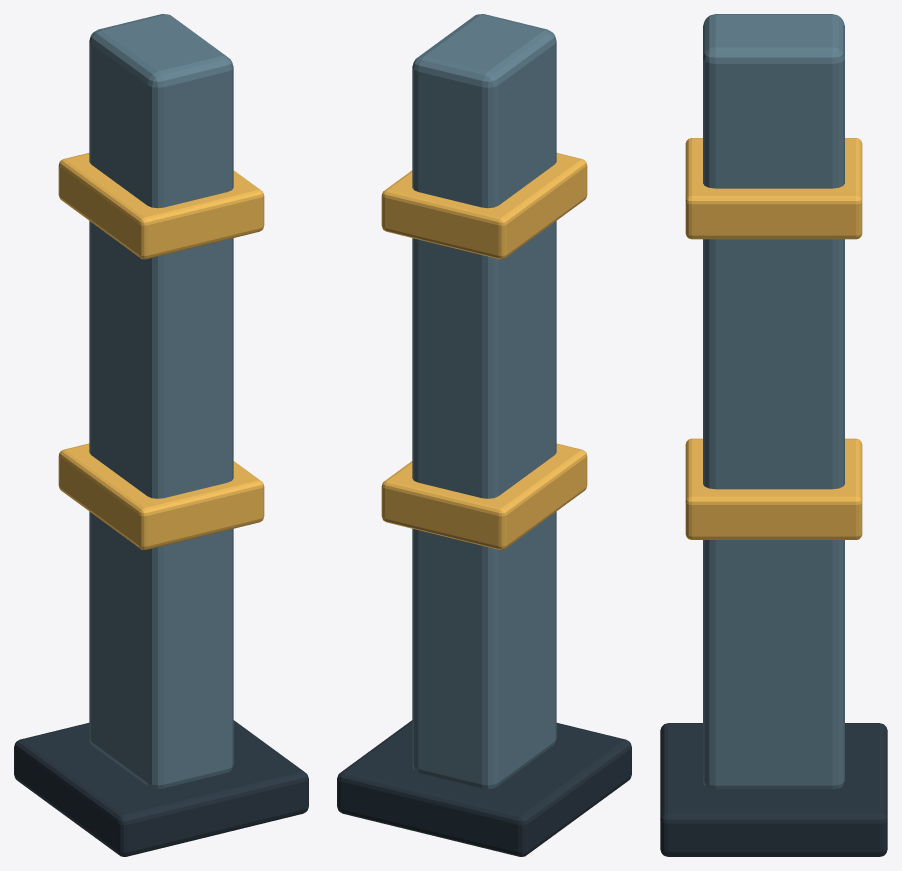
The model's file is SM_LongColumn.fbx.
3 views of the same model, side by side, from view 1: azimuth 30°, elevation 25°; view 2: azimuth 150°, elevation 25°; view 3: azimuth 270°, elevation 25° (orthographic). The views are drawn at different scales.
Visible parts, largest first — view 1: SM_LongColumn; view 2: SM_LongColumn; view 3: SM_LongColumn.
Boxes of the visible parts, x1,y1,x2,y2 form: SM_LongColumn: (14, 14, 308, 856); SM_LongColumn: (337, 14, 631, 856); SM_LongColumn: (660, 14, 887, 856).
Bounding box in the file's own units: 72 × 72 × 273.
